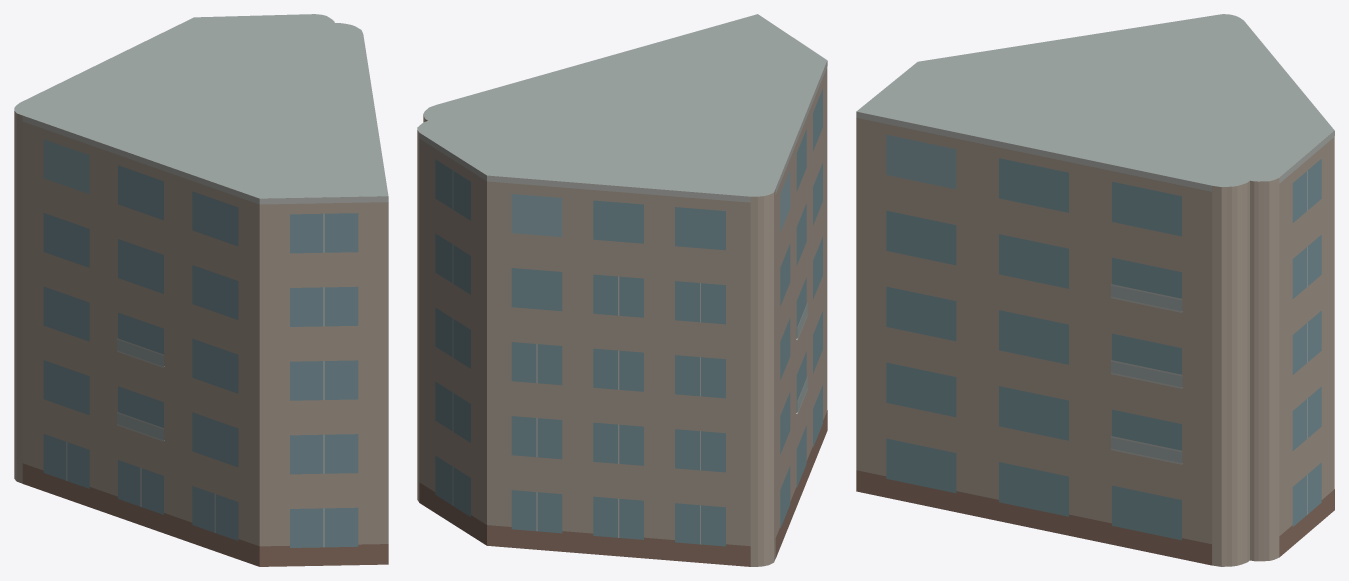
File: survey-upis-32882567.glb
3 renders of one model, left to right at view 1: azimuth 30°, elevation 25°; view 2: azimuth 150°, elevation 25°; view 3: azimuth 270°, elevation 25°, orthographic. The views are drawn at different scales.
Visible parts, largest first — view 1: survey-upis-32882567.tmp; view 2: survey-upis-32882567.tmp; view 3: survey-upis-32882567.tmp.
Boxes of the visible parts, box(x1,y1,x2,y2) form: survey-upis-32882567.tmp: box(14, 14, 388, 566); survey-upis-32882567.tmp: box(417, 14, 827, 566); survey-upis-32882567.tmp: box(856, 14, 1334, 566).
Size of the model in its own units: 14.91 by 15.25 by 17.42.
